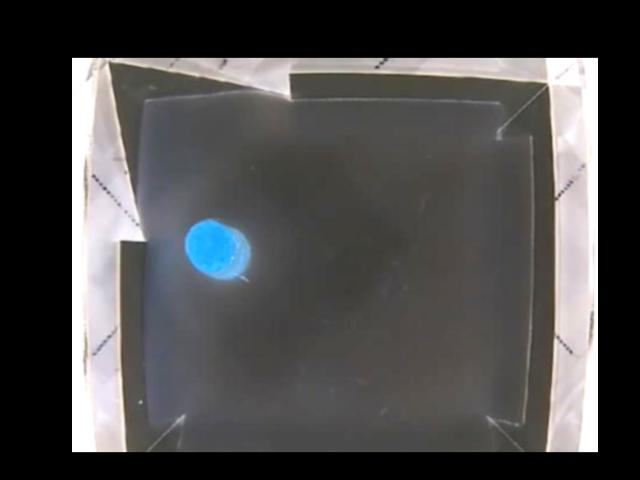Carrot: (184, 218, 249, 279)
